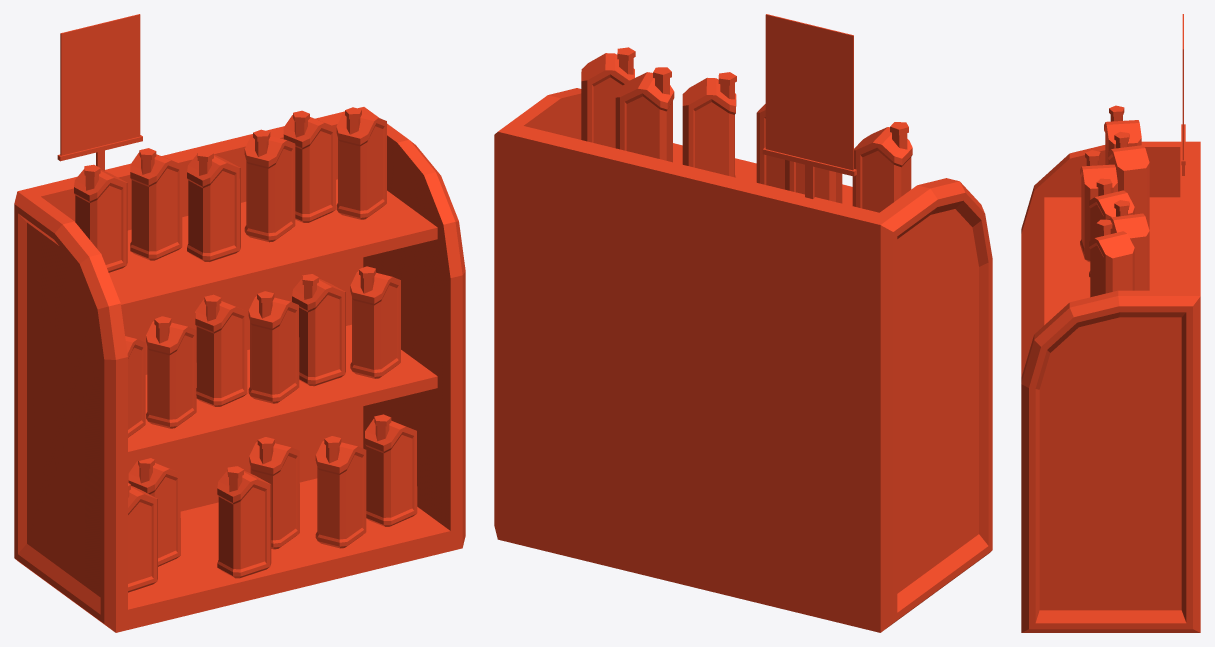
Rendered from SM_Shelf_Metal_B_City.fbx.
3 renders of one model, left to right at view 1: azimuth 30°, elevation 25°; view 2: azimuth 150°, elevation 25°; view 3: azimuth 270°, elevation 25°, orthographic. The views are drawn at different scales.
Visible parts, largest first — view 1: SM_Shelf_Metal_B_City; view 2: SM_Shelf_Metal_B_City; view 3: SM_Shelf_Metal_B_City.
Boxes of the visible parts, box(x1,y1,x2,y2) form: SM_Shelf_Metal_B_City: box(14, 14, 465, 632); SM_Shelf_Metal_B_City: box(494, 14, 992, 632); SM_Shelf_Metal_B_City: box(1021, 14, 1200, 632).
Bounding box in the file's own units: 1.06 × 1.48 × 0.5014.
